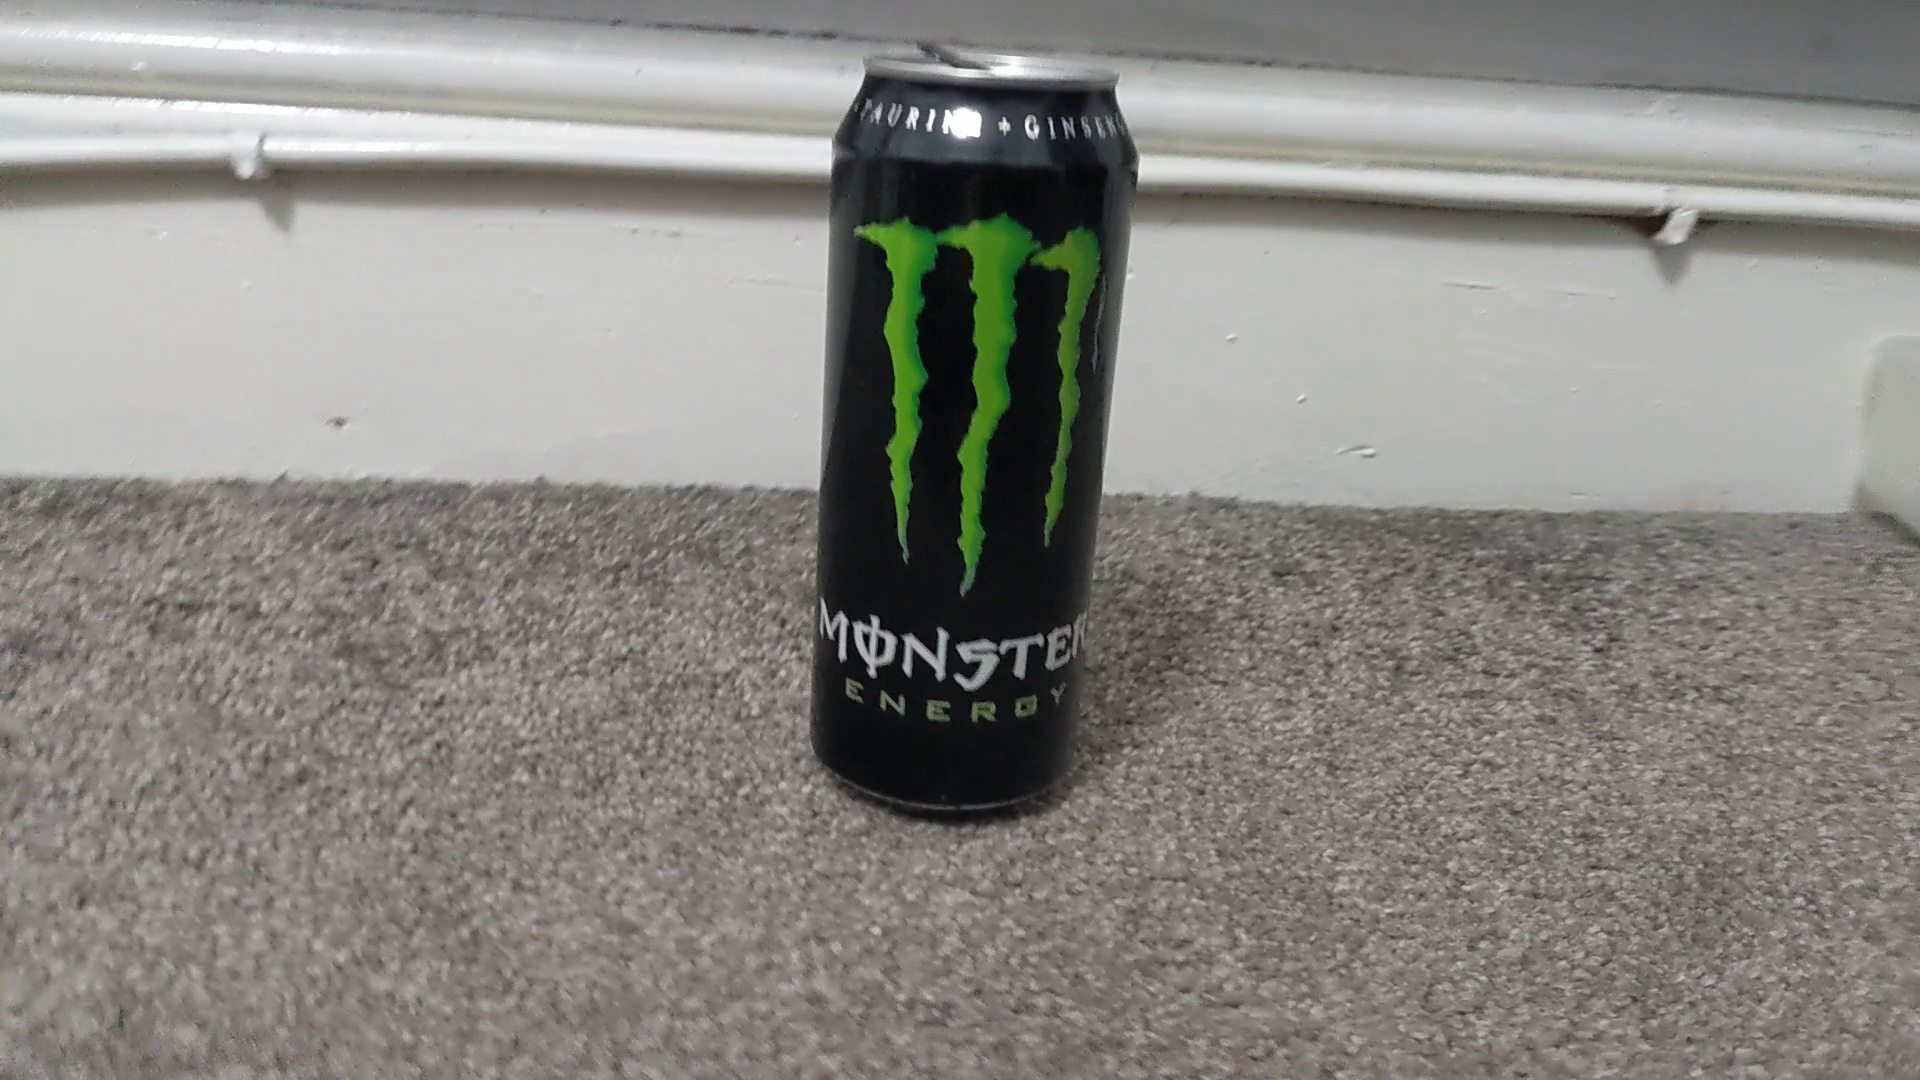monster-original: (808, 51, 1141, 819)
